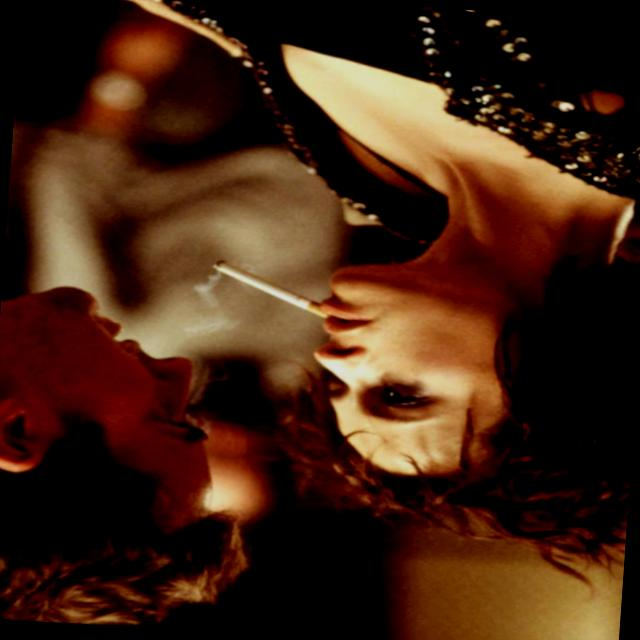cigarette: (192, 229, 353, 332)
